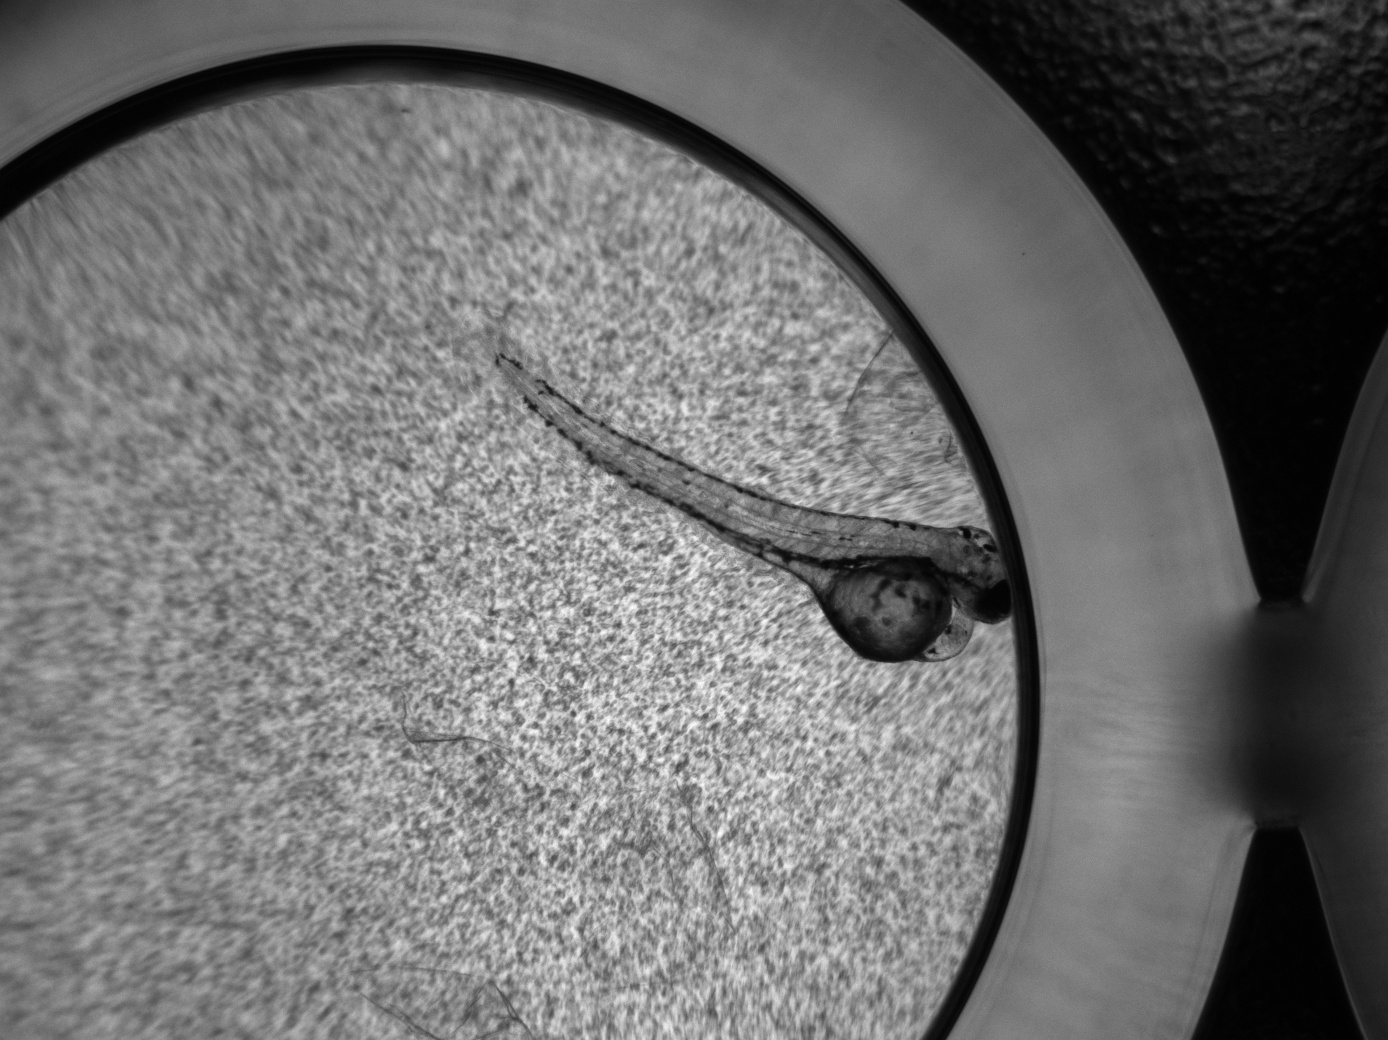embryo: (495, 353, 1015, 664)
eye: (978, 579, 1010, 621)
yolksac: (819, 555, 954, 664)
